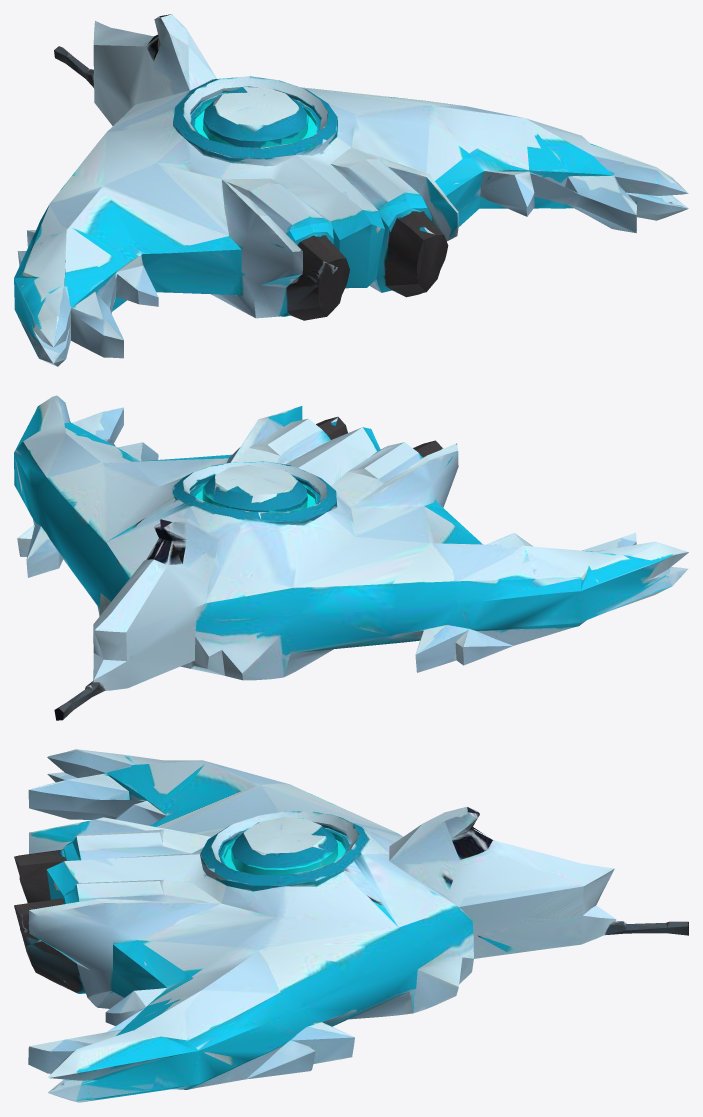
The model's file is boss3_lewiatan_lite.glb.
The picture shows the model from 3 angles, top to bottom: view 1: azimuth 30°, elevation 25°; view 2: azimuth 150°, elevation 25°; view 3: azimuth 270°, elevation 25°; orthographic projection. The views are drawn at different scales.
Parts seen in each view (by area): view 1: Boss3; view 2: Boss3; view 3: Boss3.
Boxes of the visible parts, <box> form: Boss3: <box>14,14,688,366</box>; Boss3: <box>14,395,688,720</box>; Boss3: <box>14,749,688,1102</box>.
Size of the model in its own units: 6.8 by 1.73 by 6.08.
1 material, 1 textured.
